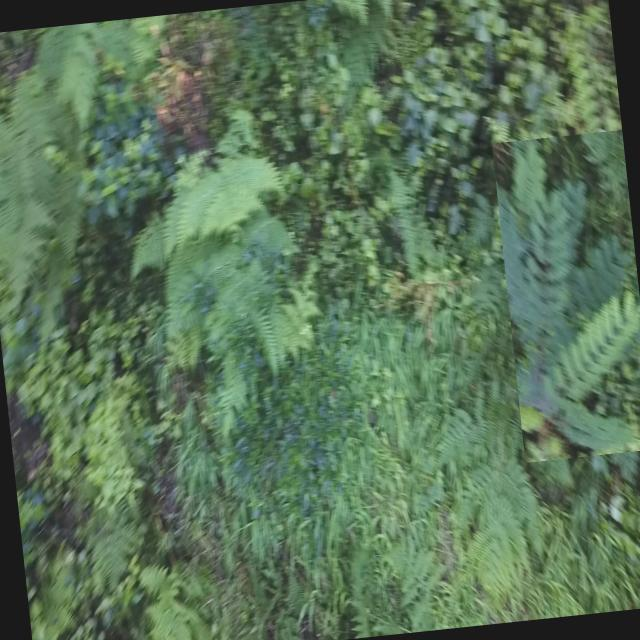Mysore-Thorn-Weed: (491, 129, 640, 462)
